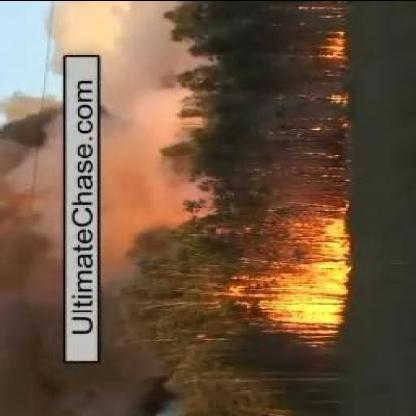-: (5, 318, 140, 416)
foggia-v2-map80-epoch100 - v1 4323: (231, 211, 344, 328)
